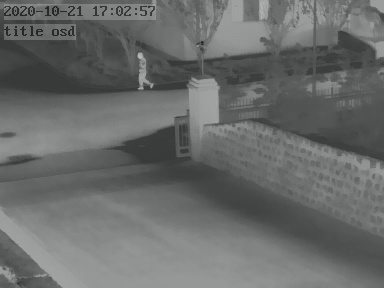person: (135, 51, 155, 91)
